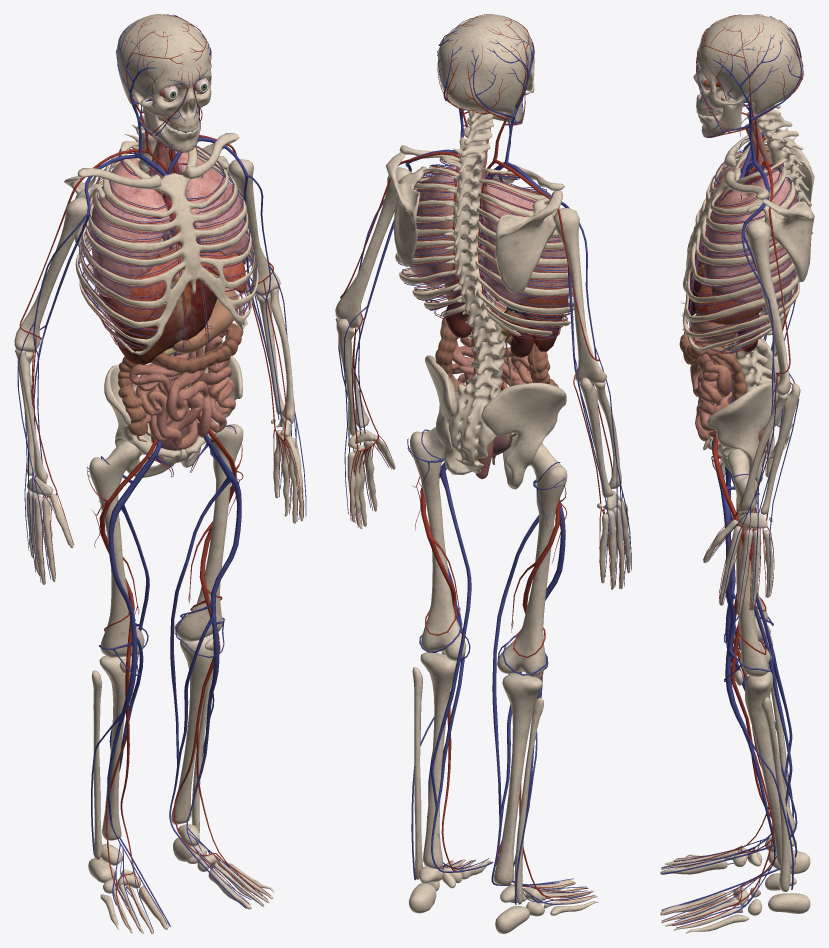
The model's file is body.glb.
3 renders of one model, left to right at view 1: azimuth 30°, elevation 25°; view 2: azimuth 150°, elevation 25°; view 3: azimuth 270°, elevation 25°, orthographic. The views are drawn at different scales.
Visible parts, largest first — view 1: Legs, VenasMesh, Hands, Ribcage, ArteriasMesh, DigestiveSystem, Skull, HumanLungs, Liver, Pelvis, Diafragma, Spine; view 2: Legs, Hands, VenasMesh, Spine, ArteriasMesh, Skull, Ribcage, Pelvis, HumanLungs, DigestiveSystem, Urinary_System, Liver (+1 smaller); view 3: Legs, VenasMesh, Hands, Skull, ArteriasMesh, Ribcage, DigestiveSystem, HumanLungs, Pelvis, Spine, Diafragma.
Boxes of the visible parts, x1,y1,x2,y2 form: Legs: (88,424,273,933); VenasMesh: (17,14,306,931); Hands: (14,133,304,584); Ribcage: (75,141,258,354); ArteriasMesh: (19,14,303,932); DigestiveSystem: (118,119,243,462); Skull: (117,14,211,152); HumanLungs: (89,140,248,306); Liver: (114,276,217,365); Pelvis: (104,345,242,477); Diafragma: (99,244,246,329); Spine: (124,98,187,441); Legs: (409,427,598,933); Hands: (335,145,630,589); VenasMesh: (338,23,631,904); Spine: (444,110,504,473); ArteriasMesh: (340,14,628,900); Skull: (438,14,534,123); Ribcage: (395,155,574,335); Pelvis: (425,355,566,489); HumanLungs: (410,128,568,303); DigestiveSystem: (435,183,558,479); Urinary_System: (445,293,533,464); Liver: (521,311,562,351); Legs: (660,449,810,933); VenasMesh: (661,16,801,925); Hands: (703,130,814,615); Skull: (693,15,802,138); ArteriasMesh: (662,14,803,927); Ribcage: (682,139,800,350); DigestiveSystem: (679,112,770,466); HumanLungs: (703,123,796,307); Pelvis: (707,338,787,485); Spine: (729,104,813,458); Diafragma: (695,231,763,325).
Bounding box in the file's own units: 54.88 × 170 × 27.09.
17 materials, 17 textured.
